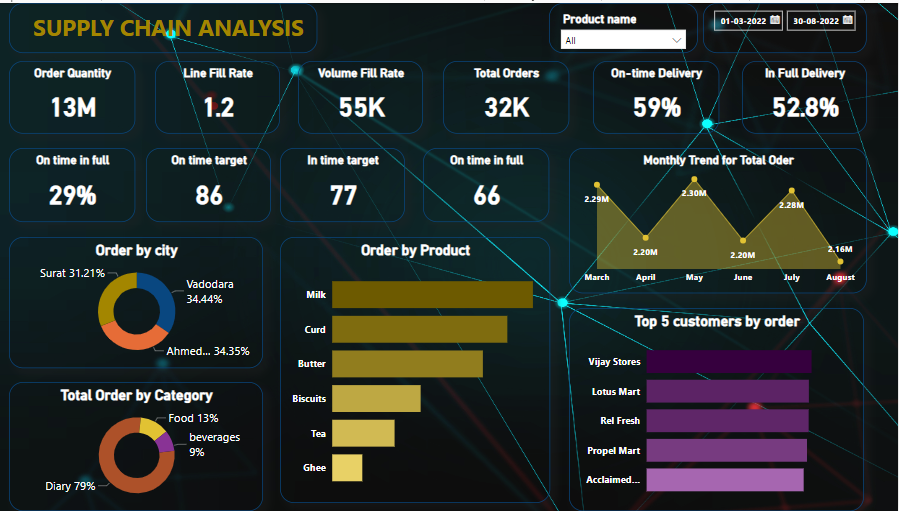

This screenshot's page, from the dashboard's own definition file:
{"tool":"powerbi","page":{"name":"Page 1","canvas":[1280,720],"ordinal":0},"visuals":[{"type":"card","title":"Order Quantity","fields":{"Values":["Sum(fact_order_lines.order_qty)"]},"box":[19.8,82.2,178.6,103.5],"z":0},{"type":"card","title":"Volume Fill Rate","fields":{"Values":["Table.Volume fill rate"]},"box":[429.4,82.2,177.2,103.5],"z":1000},{"type":"card","title":"Total Orders","fields":{"Values":["Table.Total Orders"]},"box":[635,82.2,178.6,103.5],"z":2000},{"type":"card","title":"On-time Delivery","fields":{"Values":["Table.On time delivery"]},"box":[847.6,82.2,178.6,103.5],"z":3000},{"type":"card","title":"In Full Delivery","fields":{"Values":["Key_measures.In full delivery"]},"box":[1058.7,82.2,177.2,103.5],"z":4000},{"type":"card","title":"On time in full","fields":{"Values":["Key_measures.On time in full"]},"box":[19.8,205.5,178.6,104.9],"z":5000},{"type":"card","title":"On time target","fields":{"Values":["Avg(dim_targets_orders.ontime_target%)"]},"box":[214,205.5,177.2,104.9],"z":6000},{"type":"card","title":"In time target","fields":{"Values":["Avg(dim_targets_orders.infull_target%)"]},"box":[403.9,205.5,177.2,104.9],"z":7000},{"type":"card","title":"On time in full","fields":{"Values":["Avg(dim_targets_orders.otif_target%)"]},"box":[606.6,205.5,178.6,104.9],"z":8000},{"type":"card","title":"Line Fill Rate","fields":{"Values":["Key_measures.Line fill rate"]},"box":[226.8,82.2,177.2,103.5],"z":9000},{"type":"donutChart","title":" Order by city","fields":{"Category":["dim_customers.city"],"Y":["Sum(fact_order_lines.order_qty)"]},"box":[19.8,331.7,360,185.7],"z":10000},{"type":"clusteredBarChart","title":"Order by Product","fields":{"Y":["Sum(fact_order_lines.order_qty)"],"Category":["dim_products.product_name (groups)"]},"box":[403.9,331.7,382.7,377],"z":11000},{"type":"clusteredBarChart","title":"Top 5 customers by order","fields":{"Y":["Sum(fact_order_lines.order_qty)"],"Category":["dim_customers.customer_name"]},"box":[813.5,432.3,418.1,287.7],"z":12000},{"type":"textbox","box":[19.8,0,436.5,70.9],"z":13000},{"type":"areaChart","title":"Monthly Trend for Total Oder","fields":{"Category":["fact_order_lines.Month Name"],"Y":["Sum(fact_order_lines.order_qty)"]},"box":[813.5,205.5,422.4,205.5],"z":14000},{"type":"slicer","fields":{"Values":["dim_products.product_name (groups)"]},"box":[785.2,0,211.2,70.9],"z":15000},{"type":"slicer","fields":{"Values":["fact_order_lines.order_placement_date"]},"box":[1003.5,0,232.4,70.9],"z":16000},{"type":"donutChart","title":"Total Order by Category","fields":{"Category":["dim_products.category"],"Y":["Sum(fact_order_lines.order_qty)"]},"box":[19.8,537.2,360,182.8],"z":17000}]}

Visuals, with their boxes in screenshot pixels (x1, y1, x2, y2), scaled from the page's 1280x720 canvas onto the 899x511 screenshot:
"Order Quantity" card: detection(14, 58, 139, 132)
"Volume Fill Rate" card: detection(302, 58, 426, 132)
"Total Orders" card: detection(446, 58, 571, 132)
"On-time Delivery" card: detection(595, 58, 721, 132)
"In Full Delivery" card: detection(744, 58, 868, 132)
"On time in full" card: detection(14, 146, 139, 220)
"On time target" card: detection(150, 146, 275, 220)
"In time target" card: detection(284, 146, 408, 220)
"On time in full" card: detection(426, 146, 551, 220)
"Line Fill Rate" card: detection(159, 58, 284, 132)
" Order by city" donutChart: detection(14, 235, 267, 367)
"Order by Product" clusteredBarChart: detection(284, 235, 552, 503)
"Top 5 customers by order" clusteredBarChart: detection(571, 307, 865, 510)
textbox: detection(14, 0, 320, 50)
"Monthly Trend for Total Oder" areaChart: detection(571, 146, 868, 292)
slicer - dim_products.product_name (groups): detection(551, 0, 700, 50)
slicer - fact_order_lines.order_placement_date: detection(705, 0, 868, 50)
"Total Order by Category" donutChart: detection(14, 381, 267, 510)
